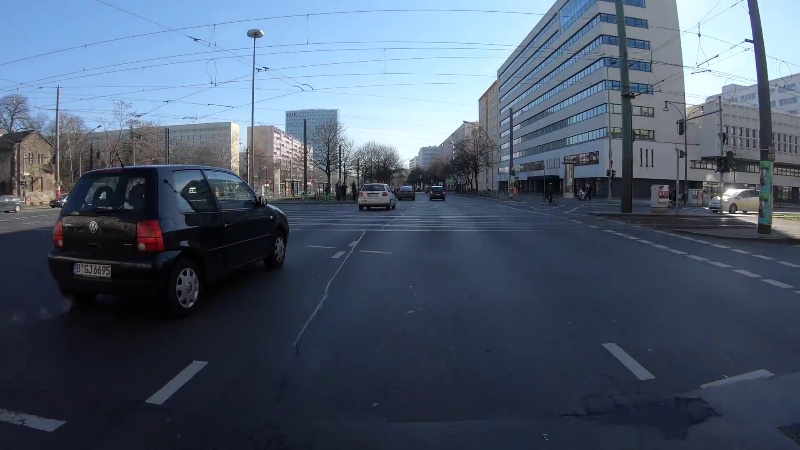Plate: (68, 261, 114, 279), (367, 192, 378, 197)
